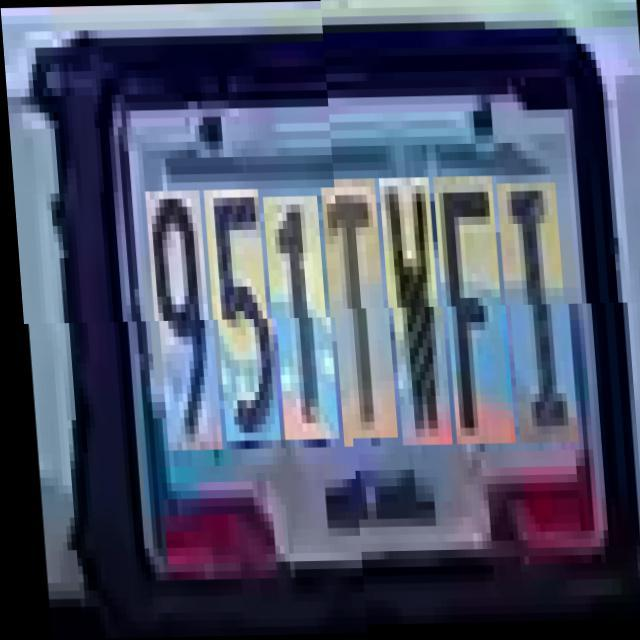1: (264, 197, 332, 441)
5: (205, 190, 274, 442)
9: (147, 191, 216, 451)
F: (435, 186, 509, 454)
I: (498, 193, 572, 453)
T: (322, 188, 392, 448)
W: (381, 187, 446, 455)
